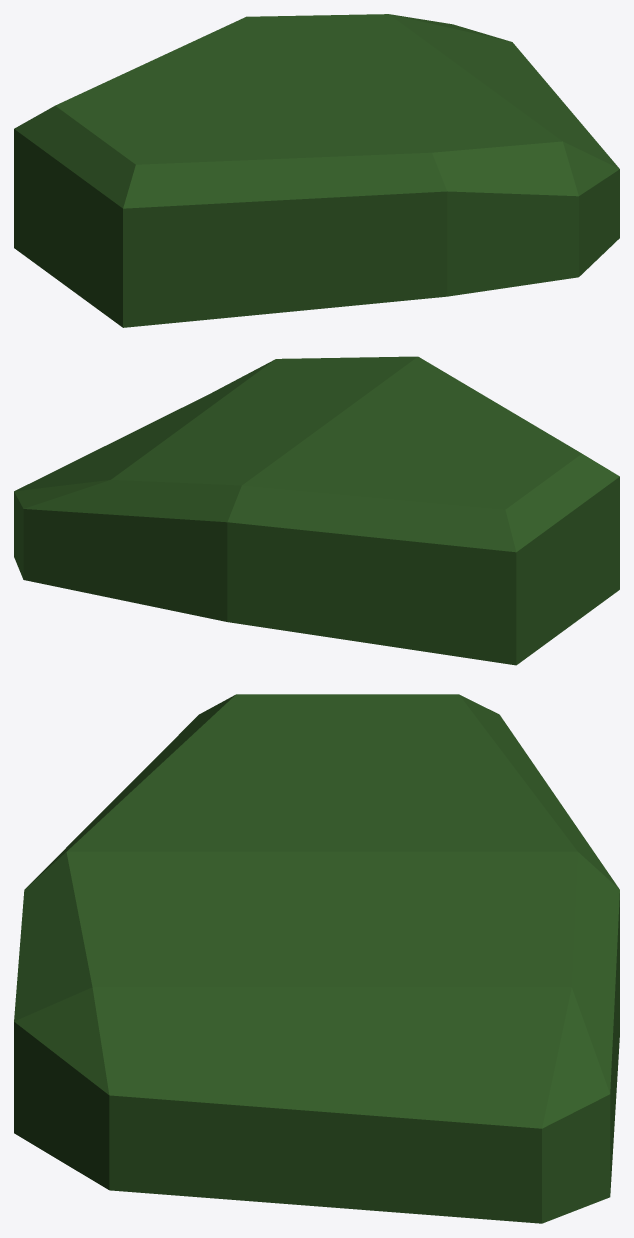
Rendered from Rock3.FBX.
The picture shows the model from 3 angles, top to bottom: view 1: azimuth 30°, elevation 25°; view 2: azimuth 150°, elevation 25°; view 3: azimuth 270°, elevation 25°; orthographic projection. The views are drawn at different scales.
Parts seen in each view (by area): view 1: Rock3; view 2: Rock3; view 3: Rock3.
Part boxes in pixels (x1,y1,x2,y2): Rock3: [14, 14, 619, 327]; Rock3: [14, 356, 619, 665]; Rock3: [14, 694, 619, 1223].
Size of what is drawn, in the model's own units: 197 by 146 by 53.8.
